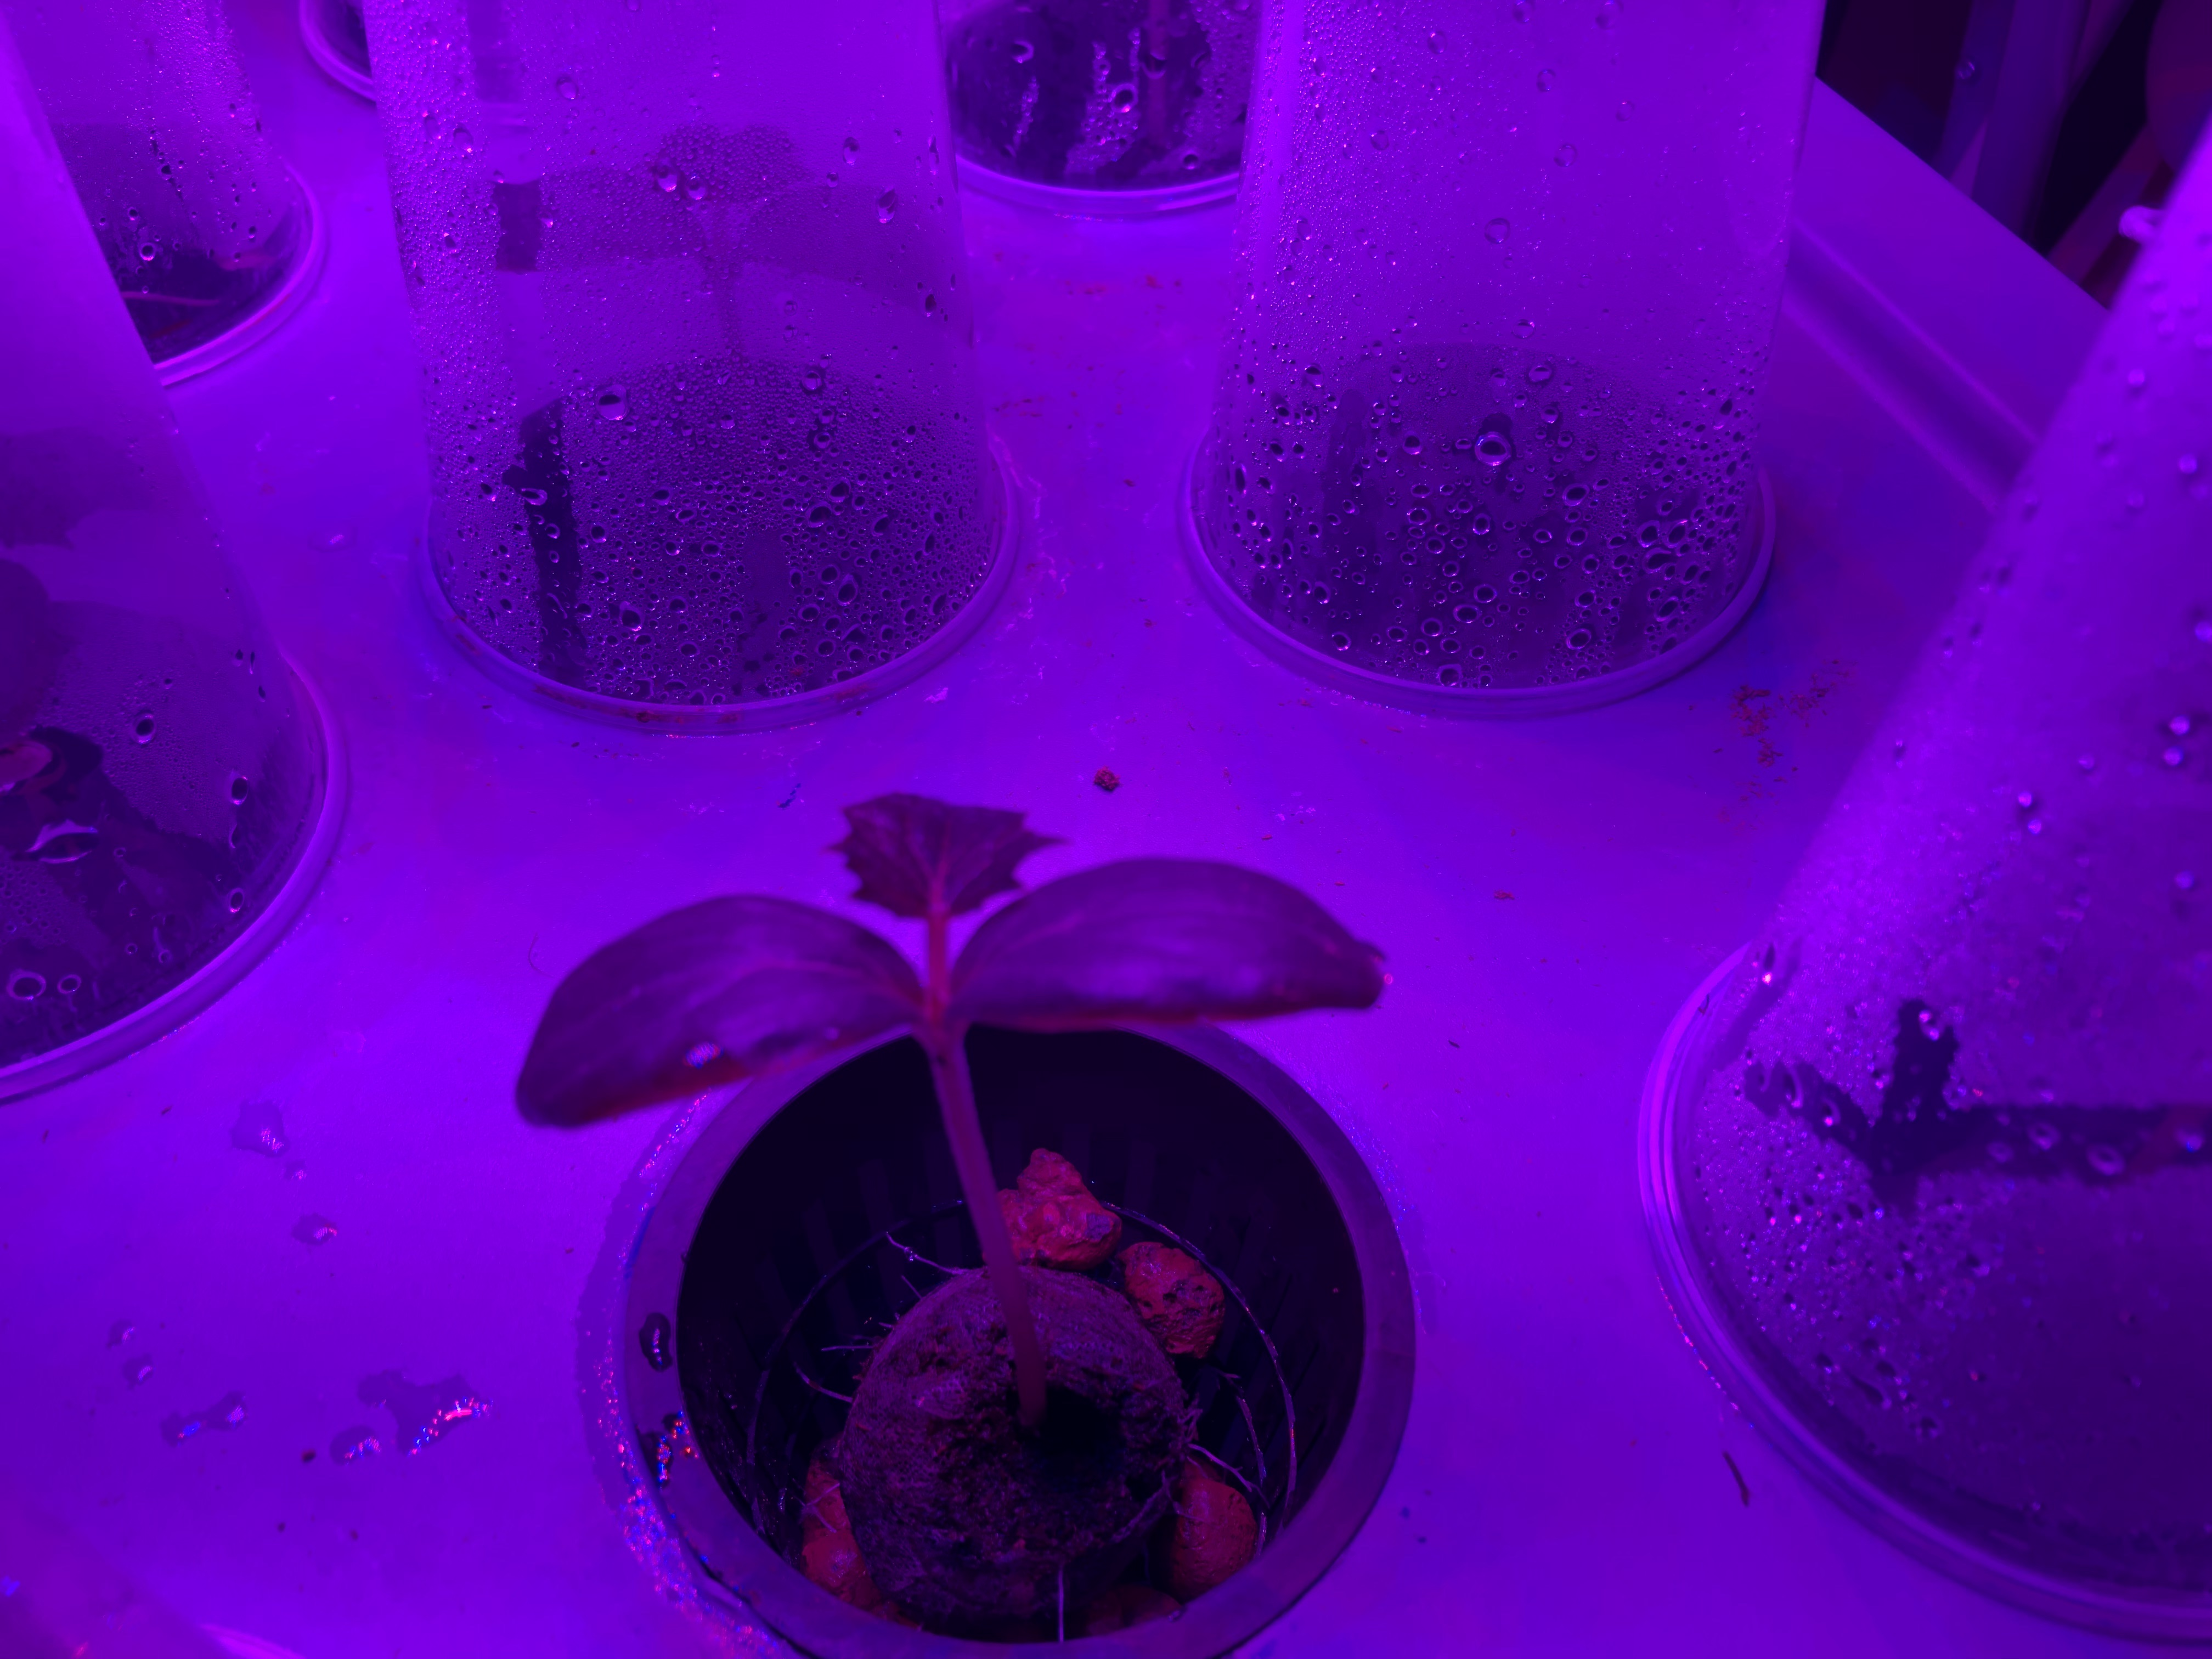cup: (376, 361, 1043, 716), (0, 620, 369, 1115)
lil_plant: (547, 1042, 1479, 1622), (491, 756, 1385, 1131), (1170, 284, 1799, 713), (498, 85, 977, 289)
